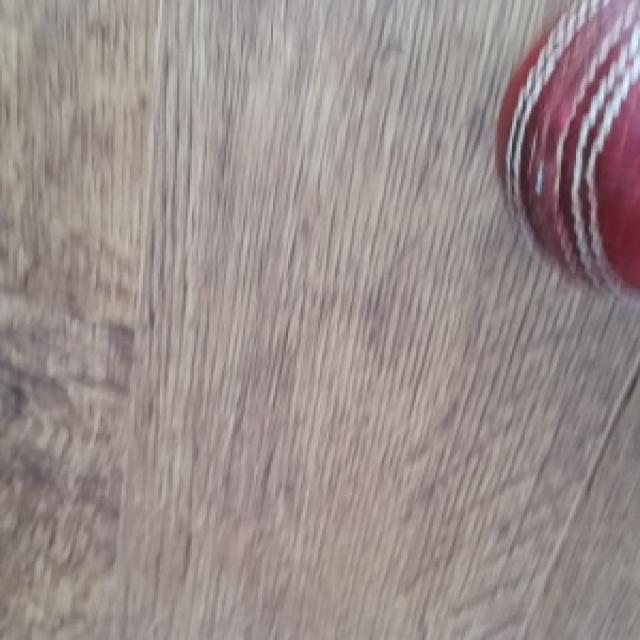ball: (510, 0, 640, 301)
